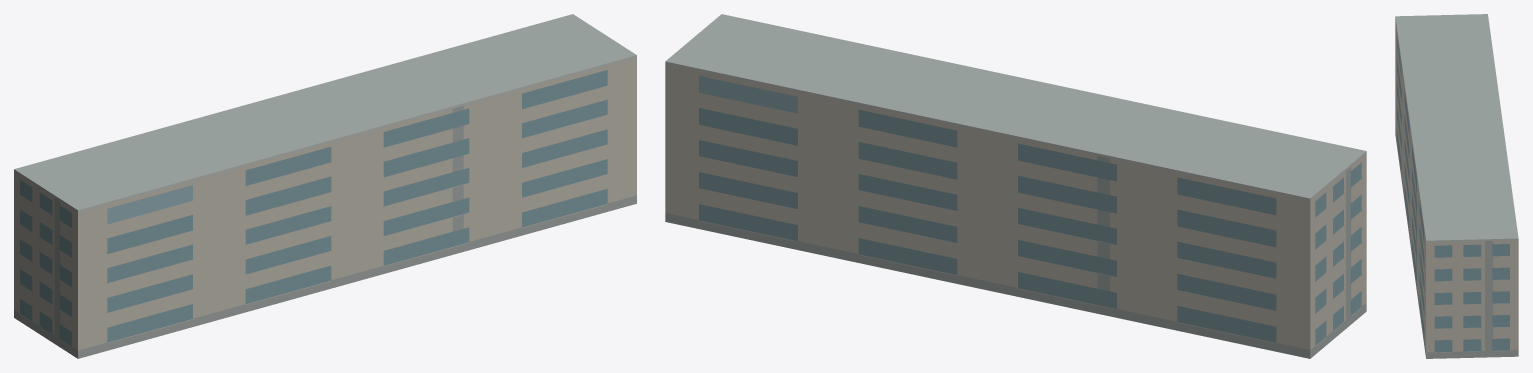
Rendered from residential-fcd6c585-77a6-4921-963e-9df522a56a8f.glb.
The picture shows the model from 3 angles, left to right: view 1: azimuth 30°, elevation 25°; view 2: azimuth 150°, elevation 25°; view 3: azimuth 270°, elevation 25°; orthographic projection. The views are drawn at different scales.
Parts seen in each view (by area): view 1: residential-fcd6c585-77a6-4921-963e-9df522a56a8f.tmp; view 2: residential-fcd6c585-77a6-4921-963e-9df522a56a8f.tmp; view 3: residential-fcd6c585-77a6-4921-963e-9df522a56a8f.tmp.
Boxes of the visible parts, x1=… form: residential-fcd6c585-77a6-4921-963e-9df522a56a8f.tmp: x1=14, y1=14, x2=636, y2=358; residential-fcd6c585-77a6-4921-963e-9df522a56a8f.tmp: x1=665, y1=14, x2=1366, y2=358; residential-fcd6c585-77a6-4921-963e-9df522a56a8f.tmp: x1=1395, y1=14, x2=1518, y2=358.
Bounding box in the file's own units: 62.73 × 15.25 × 14.42.
